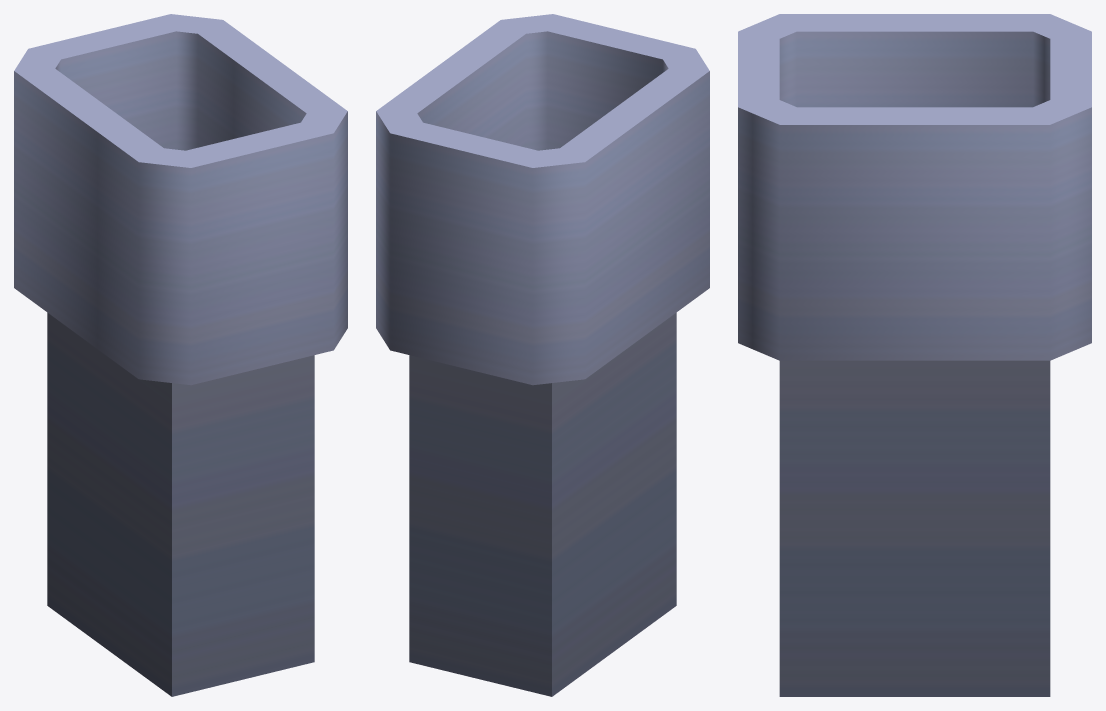
The model's file is chimney-top.glb.
3 views of the same model, side by side, from view 1: azimuth 30°, elevation 25°; view 2: azimuth 150°, elevation 25°; view 3: azimuth 270°, elevation 25° (orthographic). The views are drawn at different scales.
Parts seen in each view (by area): view 1: chimney-top; view 2: chimney-top; view 3: chimney-top.
Part boxes in pixels (x1=…): chimney-top: x1=14, y1=14, x2=347, y2=696; chimney-top: x1=376, y1=14, x2=709, y2=696; chimney-top: x1=738, y1=14, x2=1091, y2=696.
Size of the model in its own units: 0.2519 by 0.625 by 0.34.
1 material, 1 textured.
